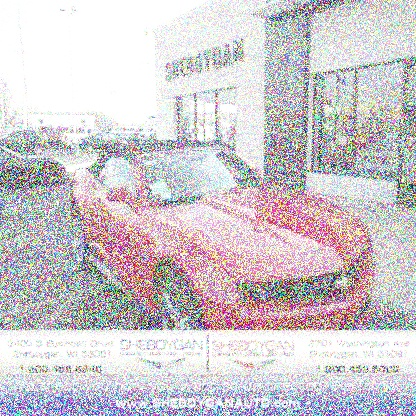Vehicle: (67, 132, 382, 334)
